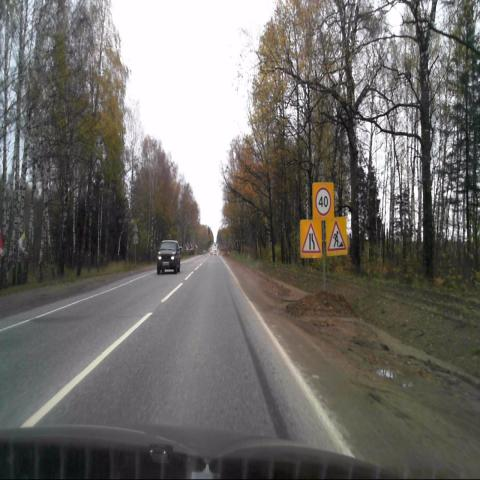1_20_2: (300, 220, 321, 258)
